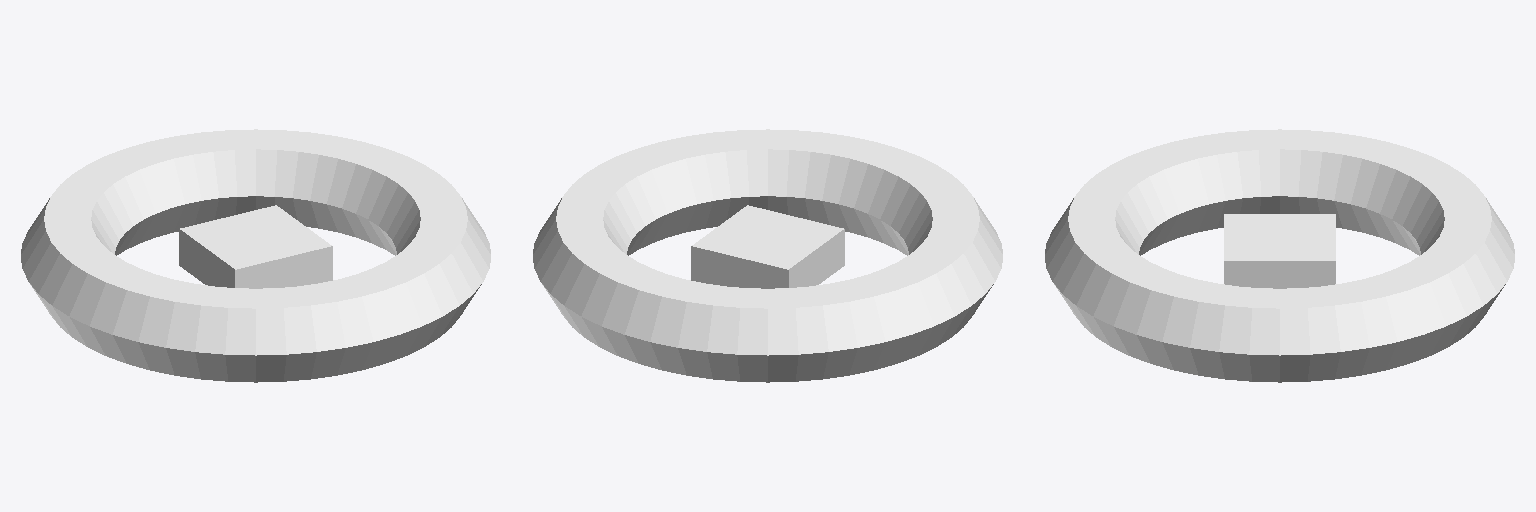
File: ring.obj
The picture shows the model from 3 angles: view 1: azimuth 30°, elevation 25°; view 2: azimuth 150°, elevation 25°; view 3: azimuth 270°, elevation 25°; orthographic projection.
Parts seen in each view (by area): view 1: Cube; view 2: Cube; view 3: Cube.
Boxes of the visible parts, box(x1,y1,x2,y2) form: Cube: box(21, 129, 490, 382); Cube: box(533, 129, 1002, 382); Cube: box(1045, 129, 1514, 382).
Size of the model in its own units: 1.49 by 0.2587 by 1.49.